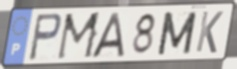8: (130, 12, 157, 57)
A: (90, 12, 125, 60)
K: (194, 9, 225, 55)
M: (55, 10, 104, 62), (155, 10, 199, 57)
P: (27, 12, 63, 63)
